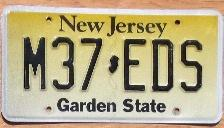3: (50, 35, 77, 90)
7: (77, 36, 105, 92)
D: (150, 37, 176, 93)
E: (121, 37, 150, 93)
M: (20, 34, 48, 92)
S: (179, 37, 206, 94)
